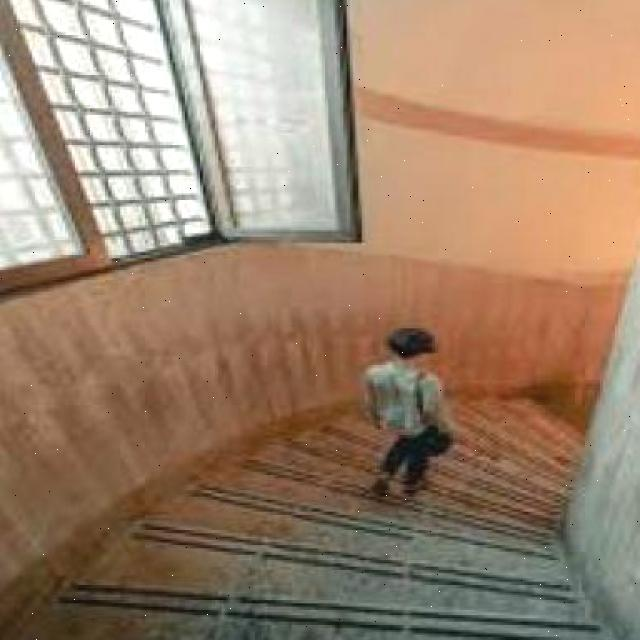stair: (108, 470, 555, 640)
